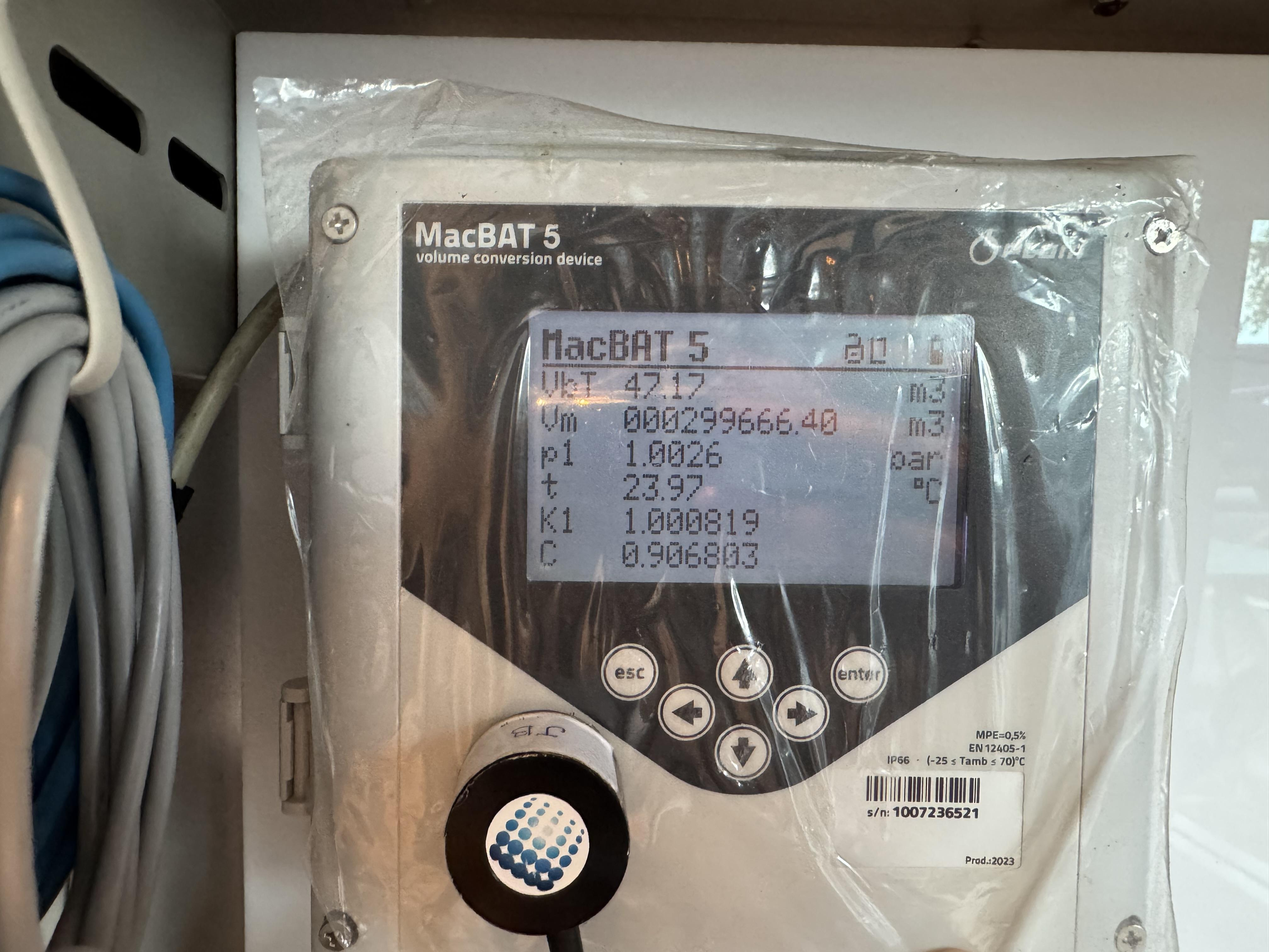digital_screen: (527, 311, 972, 587)
